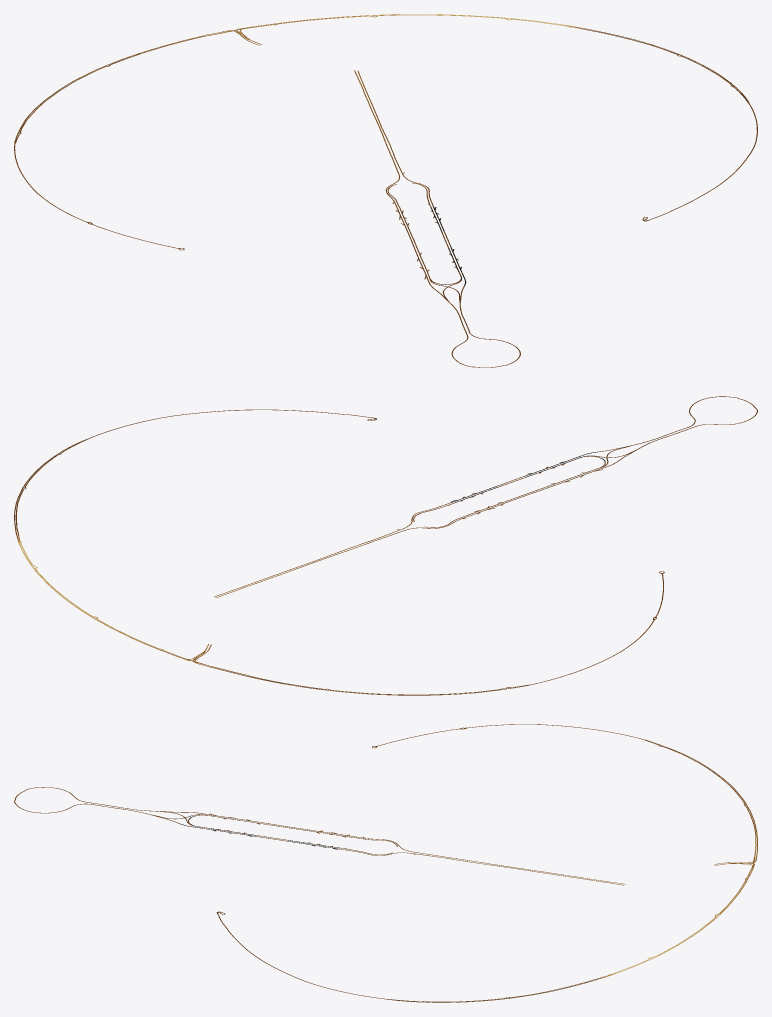
The model's file is ROAD_IN_FRONT_OF_ORLA_03.fbx.
The picture shows the model from 3 angles, top to bottom: view 1: azimuth 30°, elevation 25°; view 2: azimuth 150°, elevation 25°; view 3: azimuth 270°, elevation 25°; orthographic projection. The views are drawn at different scales.
Parts seen in each view (by area): view 1: ROAD_IN_FRONT_OF_ORLA_03; view 2: ROAD_IN_FRONT_OF_ORLA_03; view 3: ROAD_IN_FRONT_OF_ORLA_03.
Part boxes in pixels (x1,y1,x2,y2): ROAD_IN_FRONT_OF_ORLA_03: (14, 14, 757, 367); ROAD_IN_FRONT_OF_ORLA_03: (14, 396, 757, 695); ROAD_IN_FRONT_OF_ORLA_03: (14, 724, 757, 1002).
Size of the model in its own units: 5182 by 3.99 by 5851.
Materials: 1 (1 with a texture image).
